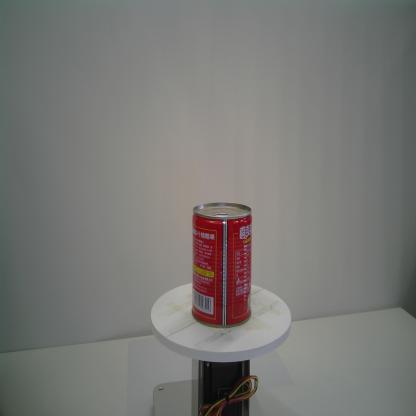Canned Food: (191, 201, 253, 329)
